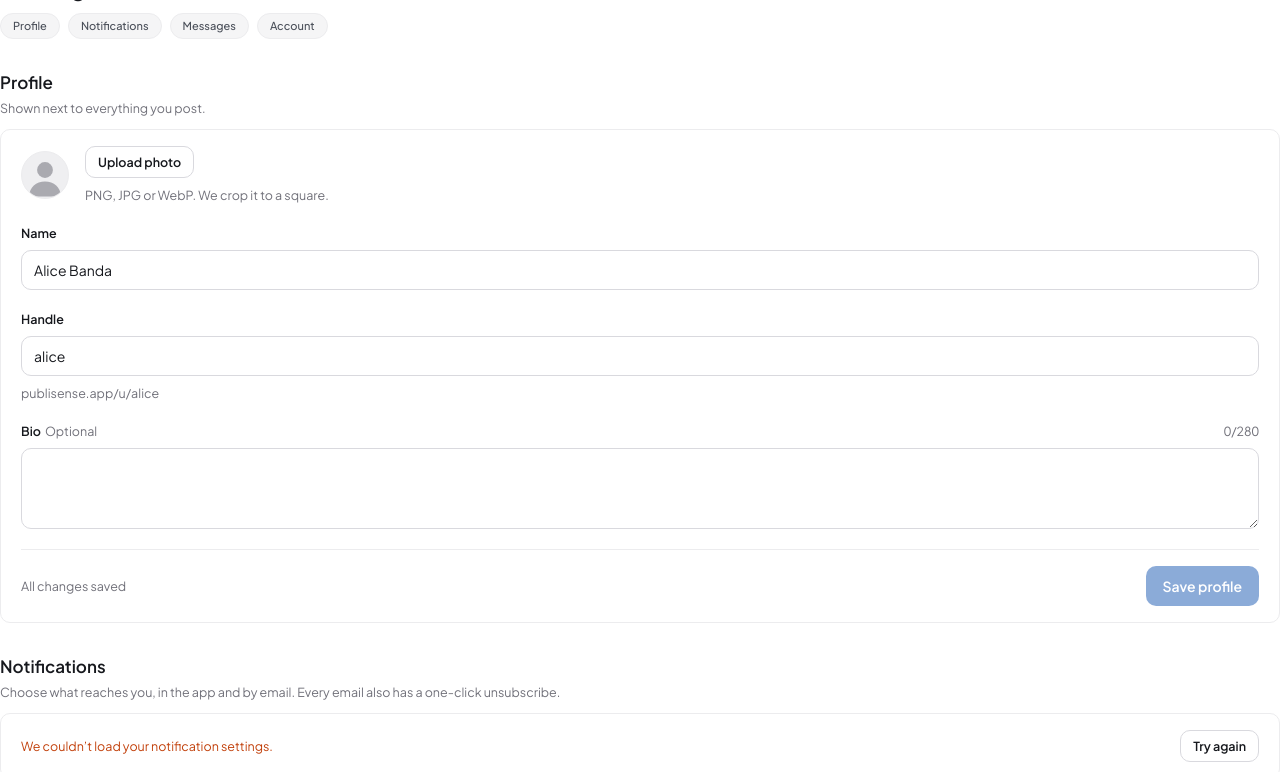
Test case: settings › offers Try again when notification preferences fail to load
Expected: the text "We couldn’t load your notification settings." is shown, 21,737 -> 273,755
Click the button "Try again".
click(1220, 746)  # box 1180,730 -> 1259,762
(page scrolled)
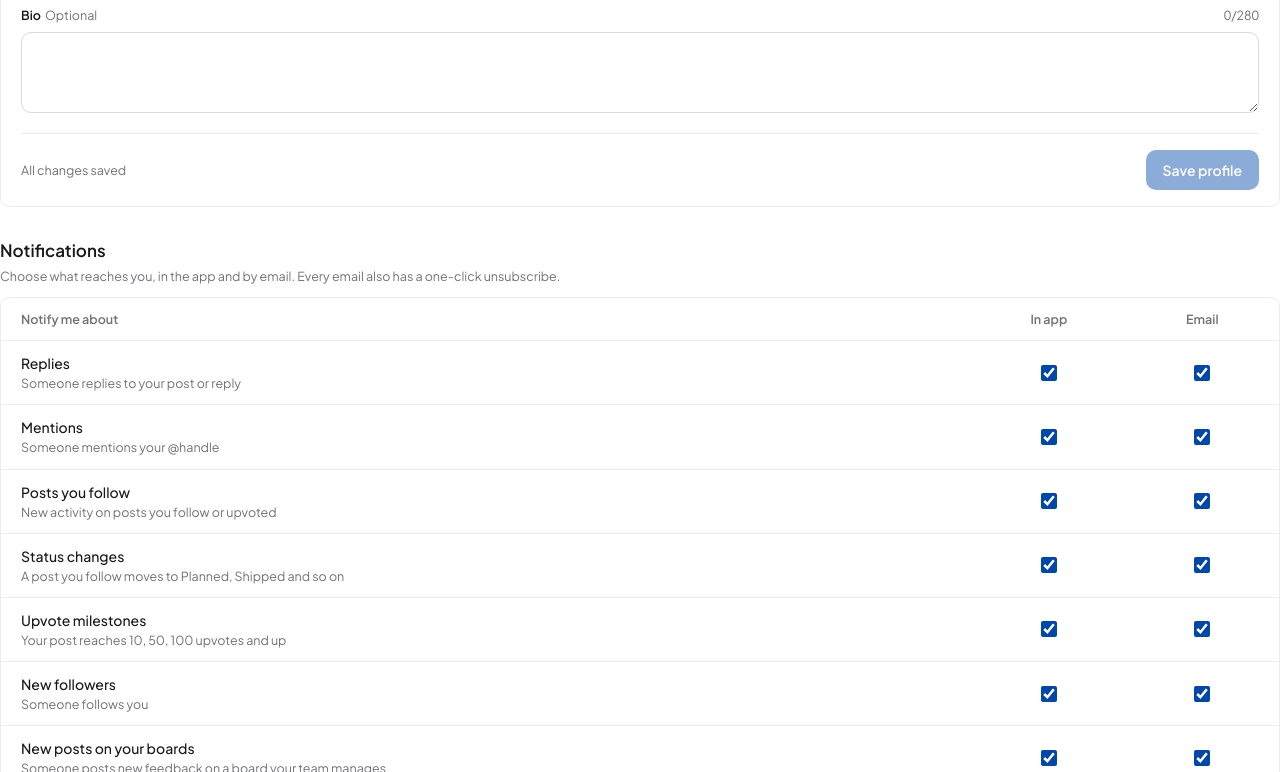
Expected: the checkbox named "Replies: Email" is shown, 1194,365 -> 1210,381
